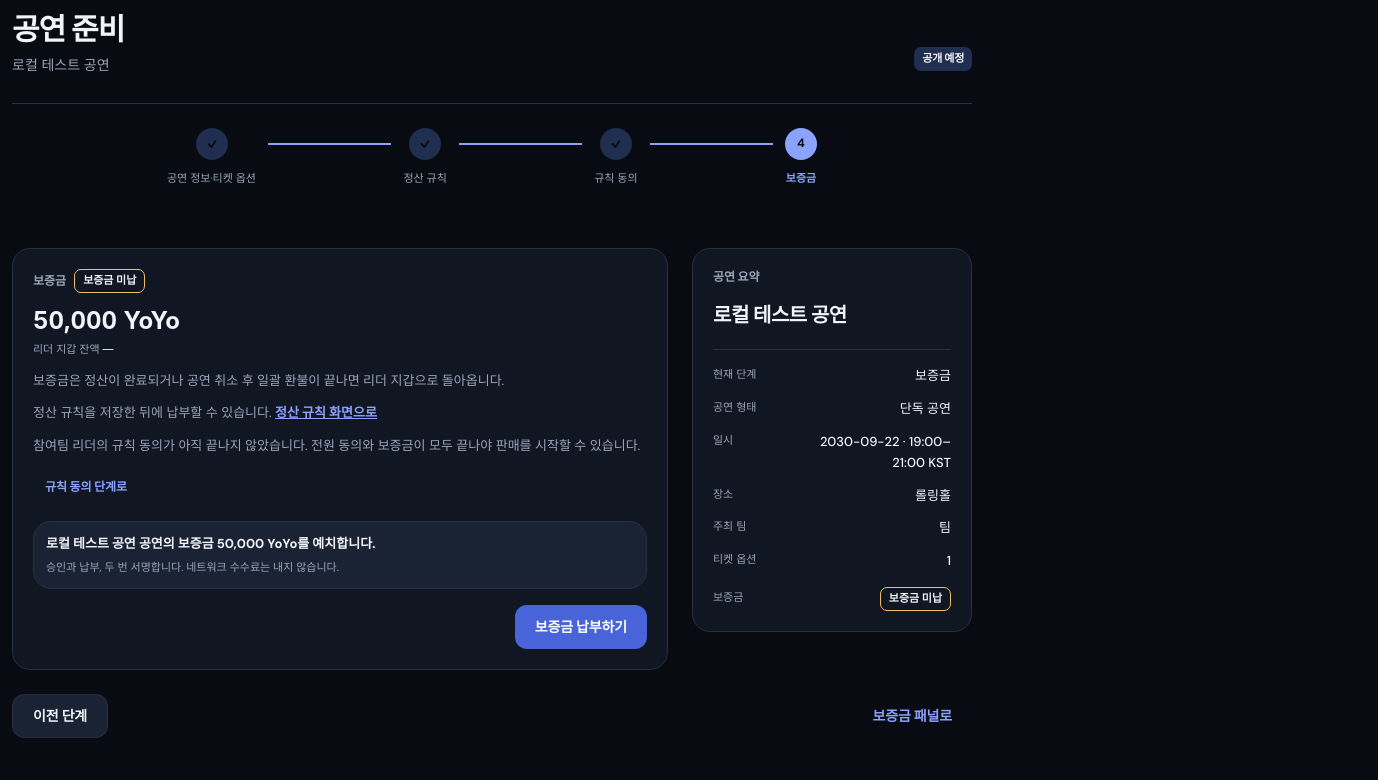
it: 보증금 확정 실패 경로 › 잔액을 모르면 409 를 잔액 부족으로 읽지 않는다
This screenshot has width=1378, height=780.
Click the button "보증금 납부하기" at point(581, 627), box [515,605,647,649]
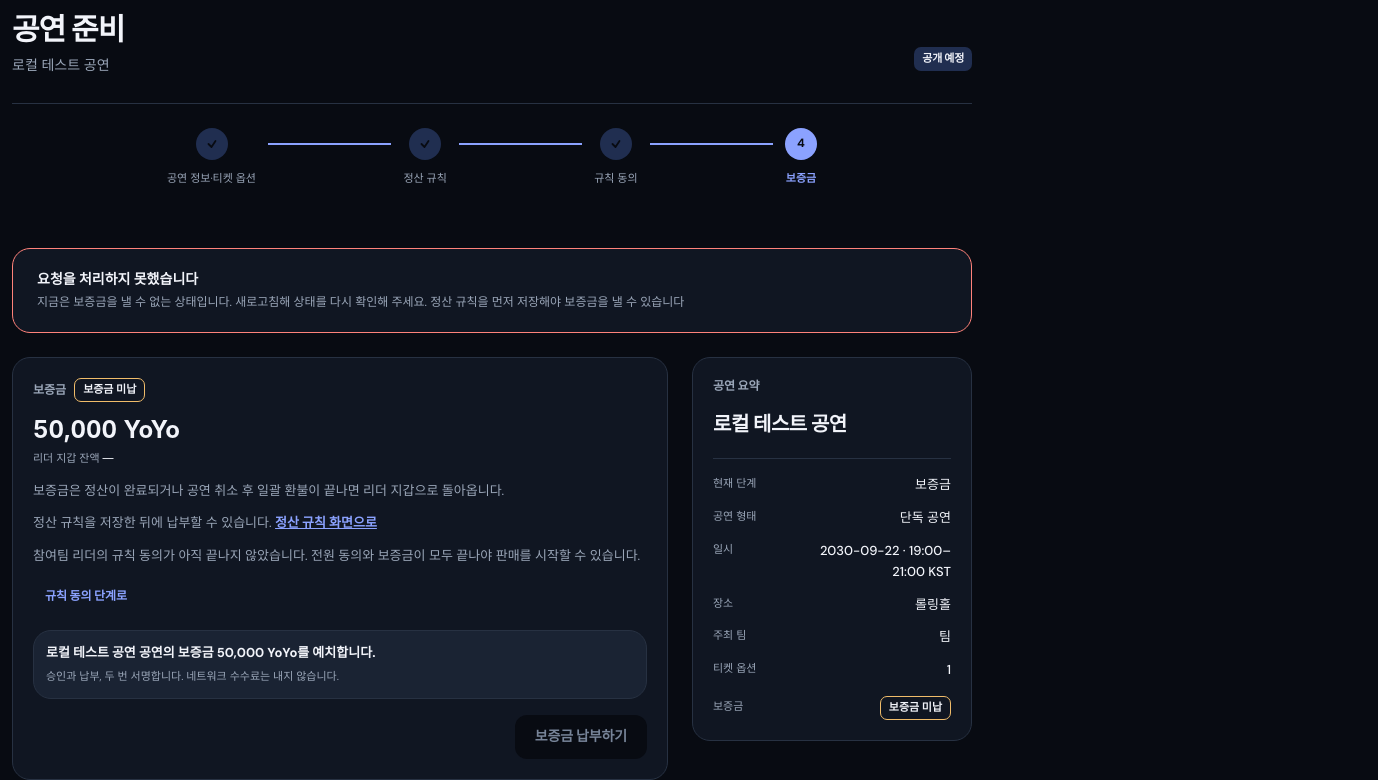
Expected: the text "정산 규칙을 먼저 저장해야" is shown, [37,294,684,310]
